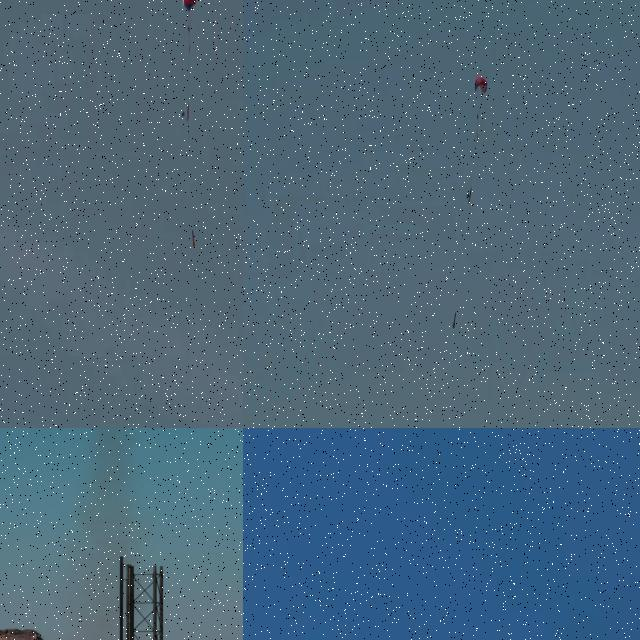Rocket: (191, 229, 196, 248), (452, 311, 457, 330)
